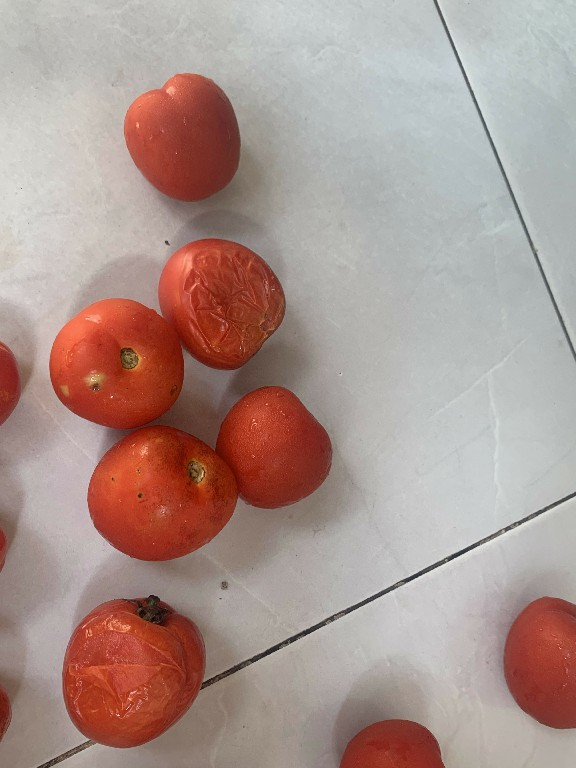NG: (51, 583, 222, 756), (77, 424, 239, 568), (37, 291, 193, 430), (159, 229, 305, 373)
OK: (114, 63, 248, 213), (215, 378, 338, 519), (502, 584, 576, 739)
